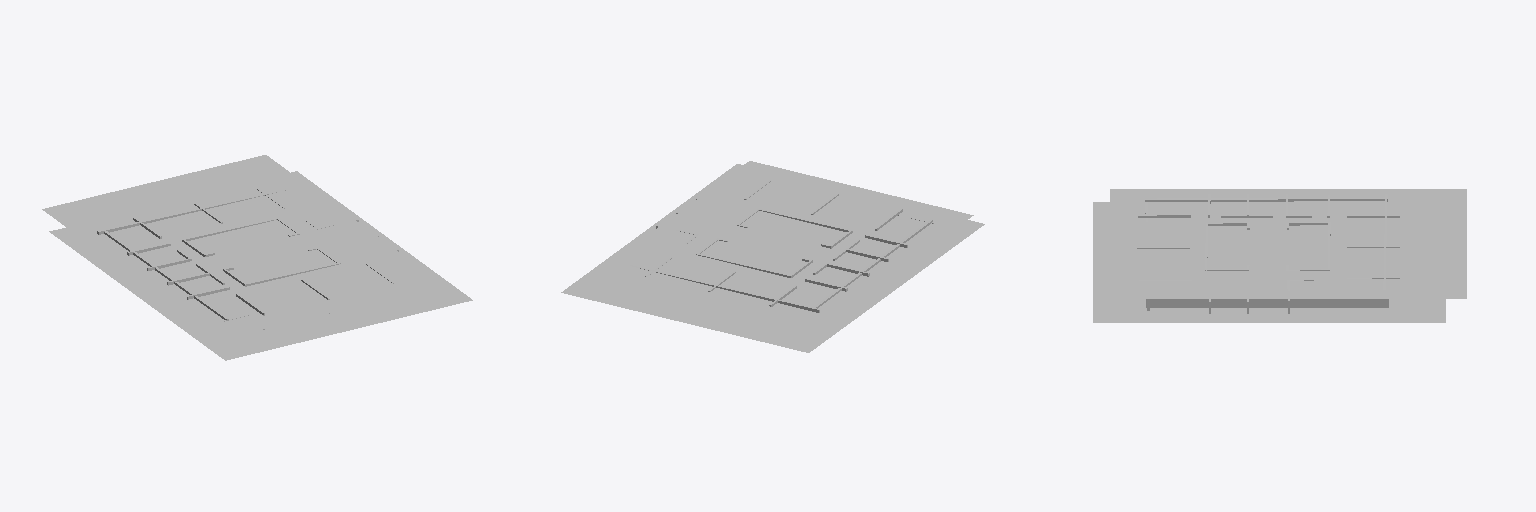
Rendered from horrible map by anhao the wank engine.obj.
The picture shows the model from 3 angles: view 1: azimuth 30°, elevation 25°; view 2: azimuth 150°, elevation 25°; view 3: azimuth 270°, elevation 25°; orthographic projection.
Parts seen in each view (by area): view 1: Plane.001, Plane, Cube; view 2: Plane.001, Plane; view 3: Plane.001, Plane, Cube.003, Cube.
Boxes of the visible parts, x1=… form: Plane.001: x1=42, y1=155, x2=442, y2=339; Plane: x1=49, y1=171, x2=472, y2=360; Cube: x1=104, y1=231, x2=228, y2=320; Plane.001: x1=572, y1=161, x2=973, y2=345; Plane: x1=561, y1=164, x2=984, y2=352; Plane.001: x1=1110, y1=189, x2=1466, y2=298; Plane: x1=1093, y1=202, x2=1445, y2=322; Cube.003: x1=1146, y1=299, x2=1388, y2=307; Cube: x1=1145, y1=198, x2=1384, y2=201.
Size of the model in its own units: 97.19 by 8.19 by 127.